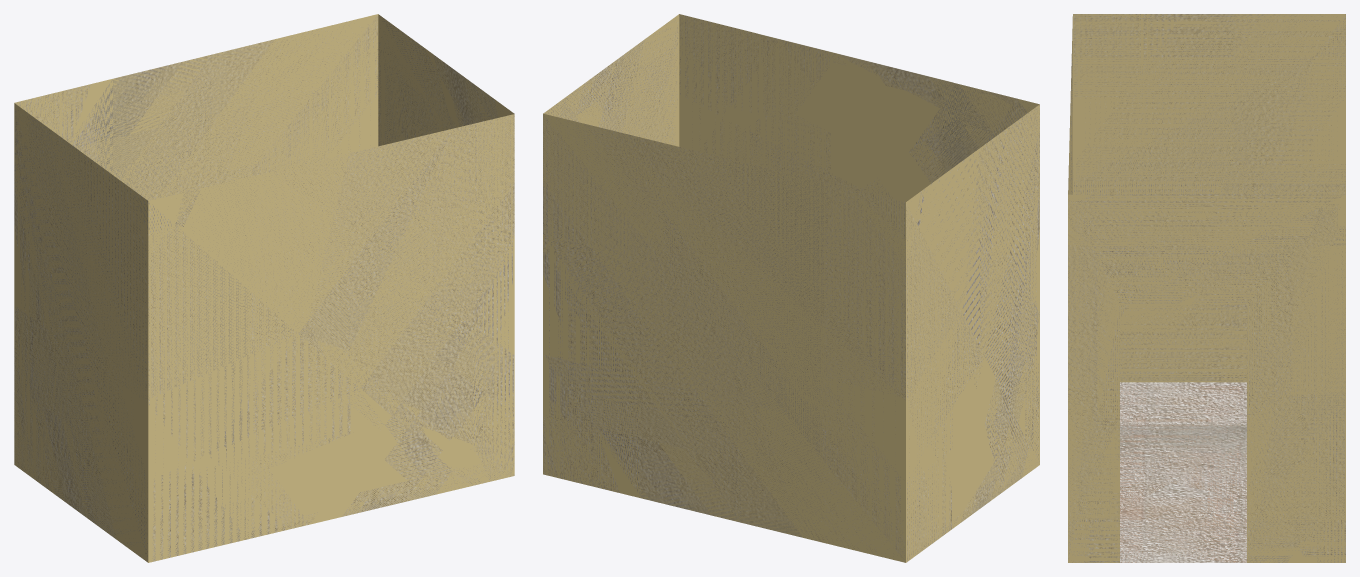
Rendered from CUA038.obj.
3 renders of one model, left to right at view 1: azimuth 30°, elevation 25°; view 2: azimuth 150°, elevation 25°; view 3: azimuth 270°, elevation 25°, orthographic. The views are drawn at different scales.
Parts seen in each view (by area): view 1: Mesh1 CUA038 Model; view 2: Mesh1 CUA038 Model; view 3: Mesh1 CUA038 Model.
Part boxes in pixels (x1,y1,x2,y2): Mesh1 CUA038 Model: [14, 14, 514, 562]; Mesh1 CUA038 Model: [543, 14, 1039, 562]; Mesh1 CUA038 Model: [1068, 14, 1345, 562].
Bounding box in the file's own units: 3.16 × 3 × 2.05.
Materials: 3 (2 with a texture image).
